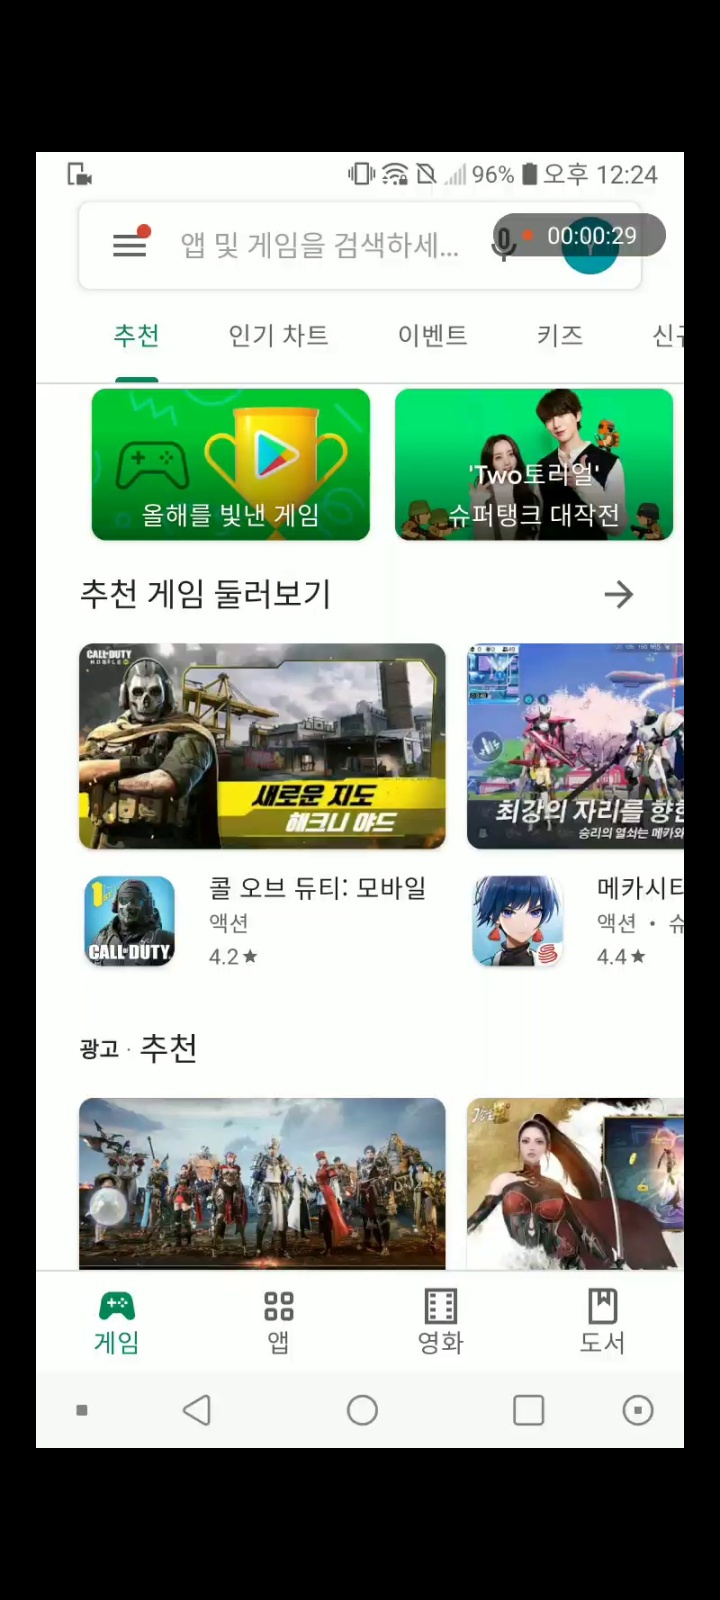Cursor: (86, 1187, 131, 1232)
